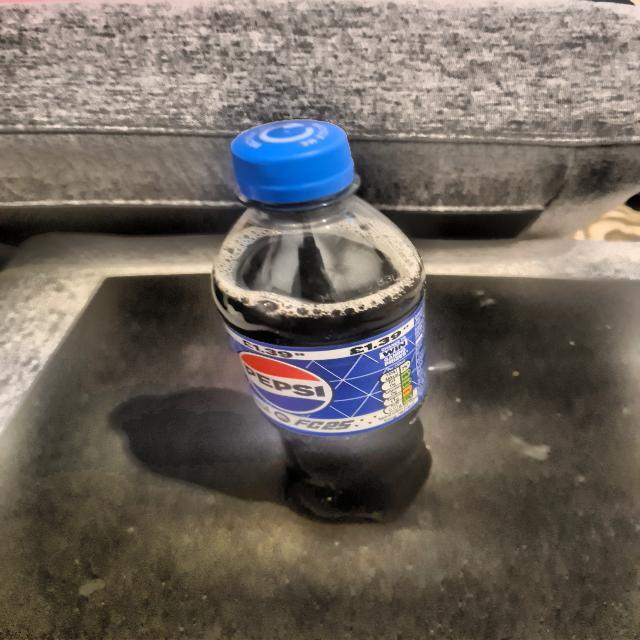pepsi-bottle: (230, 113, 428, 522)
